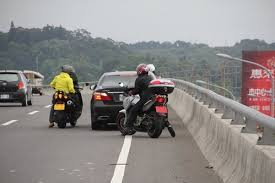helmet: (135, 64, 150, 74), (60, 64, 71, 73)
